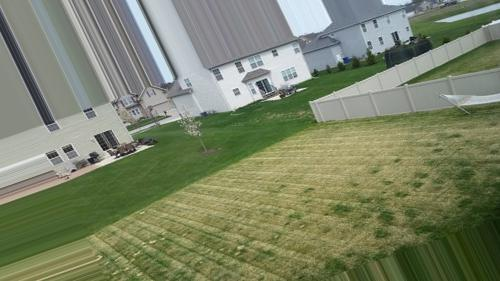patch: (125, 214, 220, 281), (237, 187, 302, 270), (323, 158, 394, 224), (383, 128, 442, 169), (275, 150, 308, 176), (179, 196, 214, 209)
